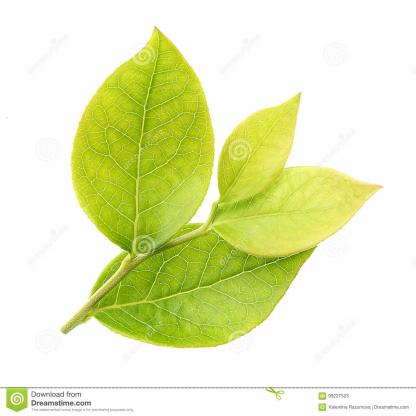Blueberry leaf: (69, 18, 202, 251), (211, 163, 392, 259), (200, 57, 305, 219)
